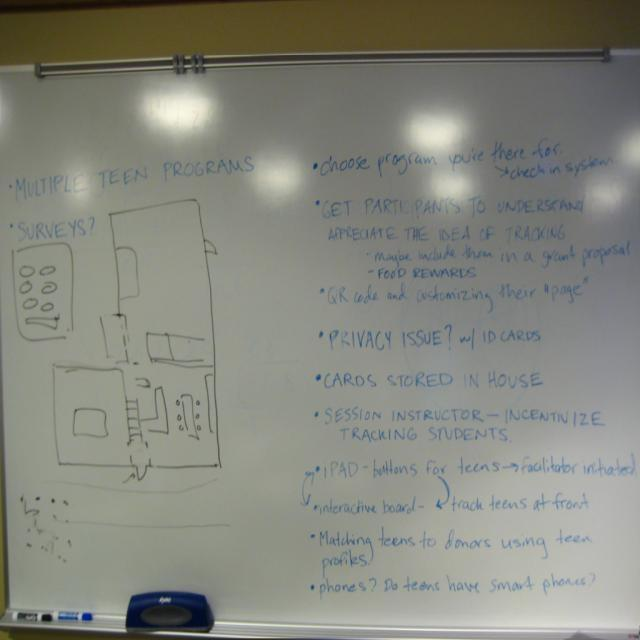Whiteboard: (1, 48, 639, 639)
